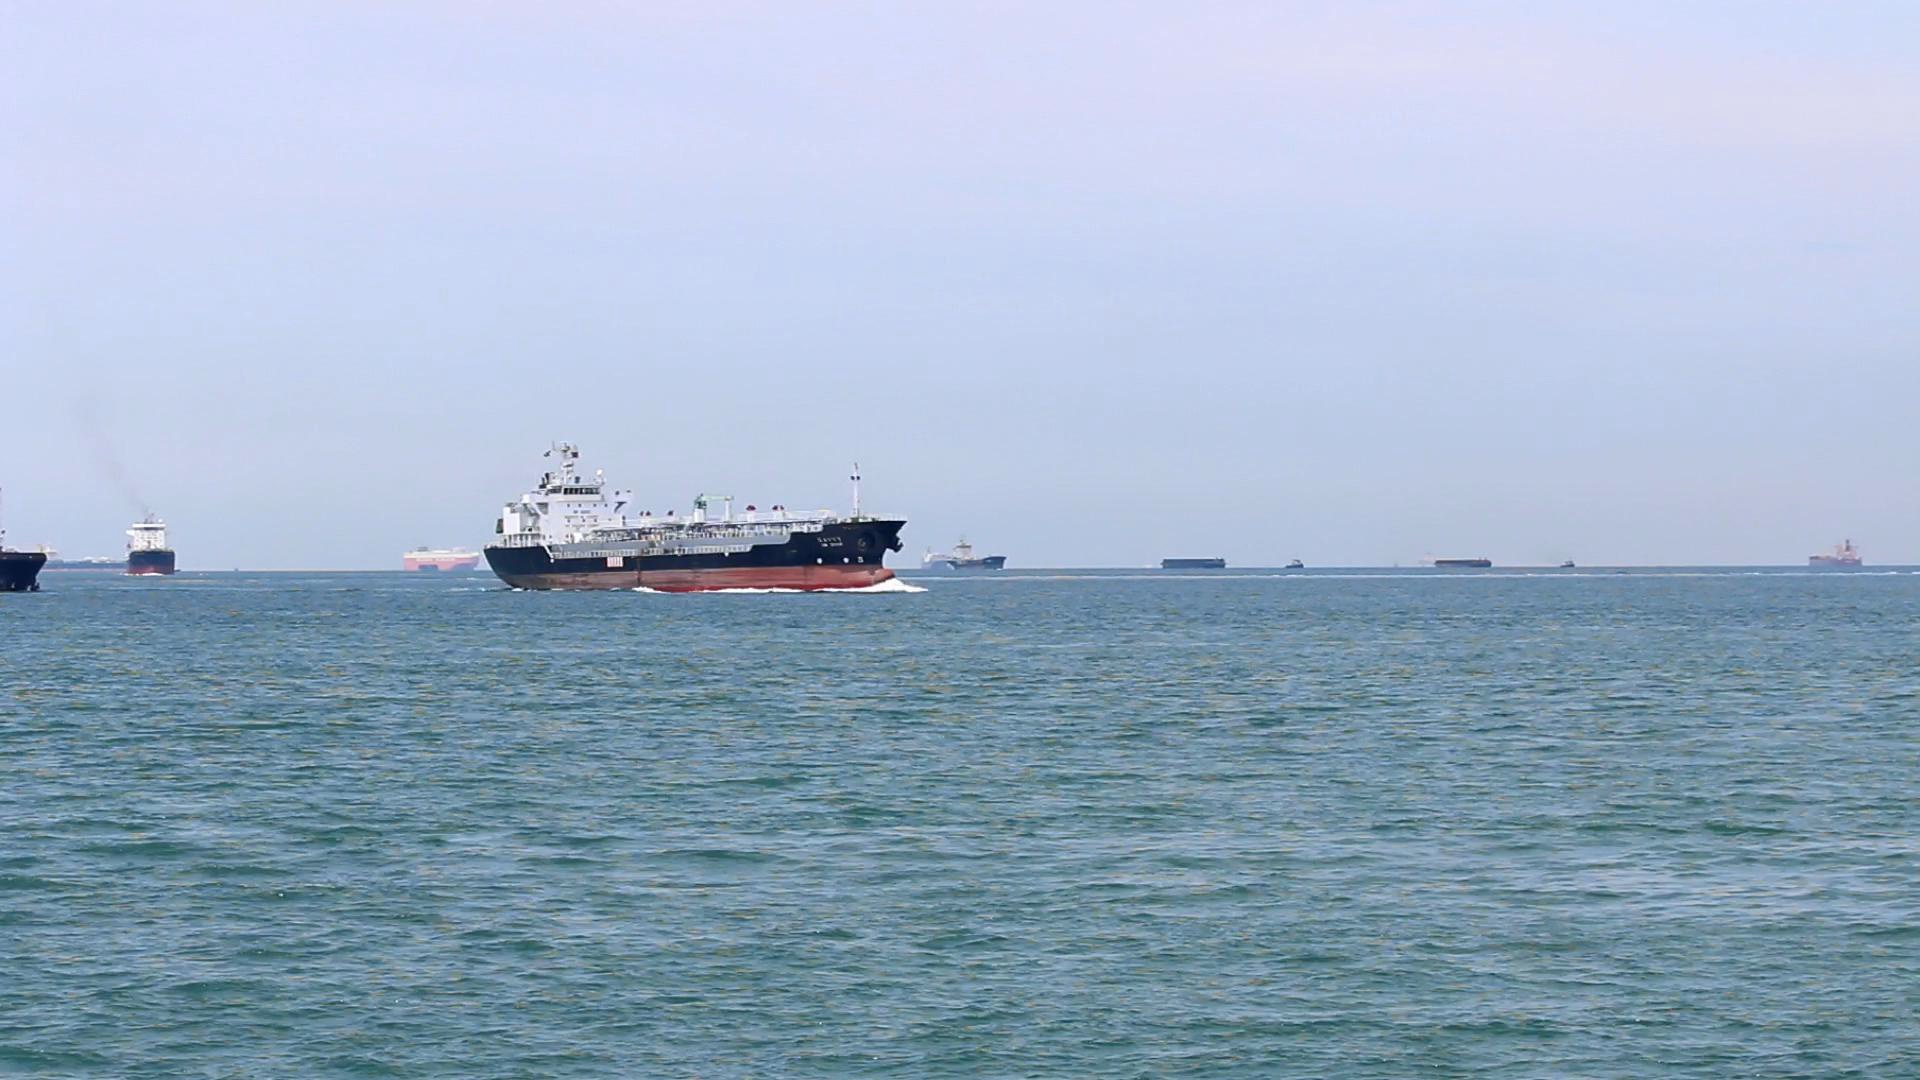Container Ship: (483, 433, 918, 597), (129, 514, 183, 579), (926, 538, 1011, 574), (45, 541, 128, 575), (1279, 554, 1303, 572)
